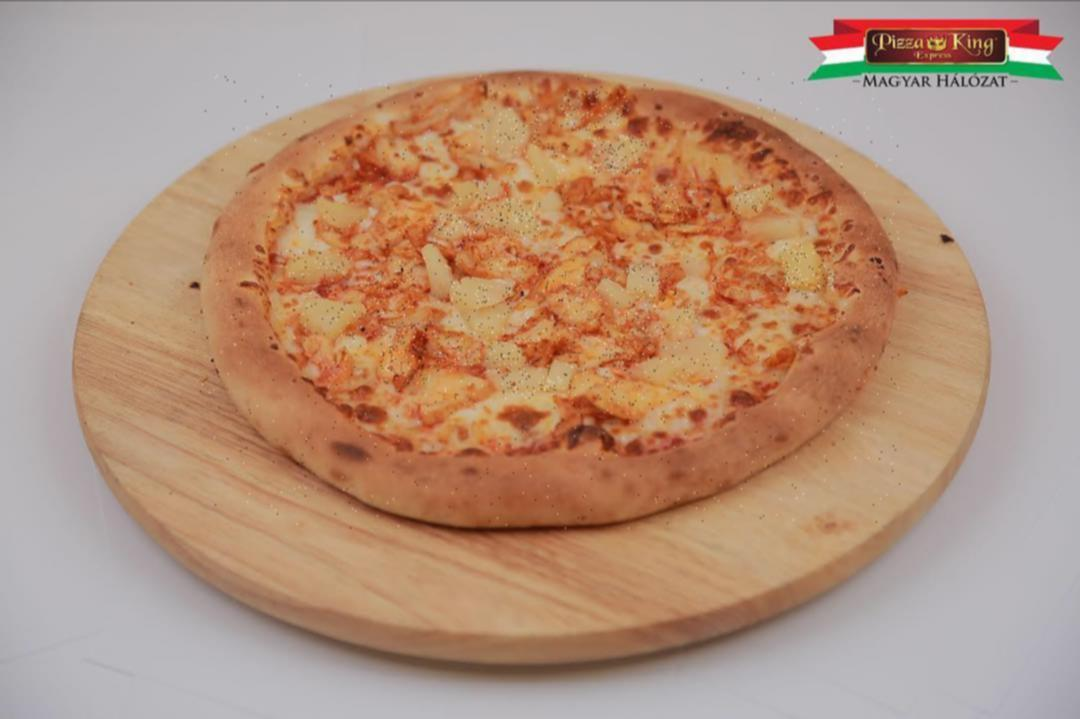Chicken: (572, 368, 692, 422), (541, 251, 609, 344), (600, 310, 668, 367), (567, 179, 621, 248), (462, 241, 539, 287), (364, 255, 416, 317), (382, 323, 433, 384), (520, 317, 581, 365), (561, 89, 628, 130), (421, 331, 487, 372), (364, 142, 426, 183), (648, 182, 702, 228)
Pineapple: (501, 357, 585, 398), (411, 236, 462, 303), (303, 290, 368, 342), (669, 333, 733, 382), (478, 198, 542, 245), (480, 107, 542, 152), (781, 245, 834, 294), (281, 246, 352, 282), (448, 280, 526, 309), (589, 135, 647, 174), (312, 196, 374, 231), (523, 142, 568, 190), (454, 302, 514, 338), (623, 264, 670, 307), (478, 336, 531, 374), (447, 180, 515, 209), (429, 215, 492, 246), (592, 273, 636, 314), (729, 184, 773, 223), (742, 214, 806, 240), (658, 304, 702, 339)
Pizza: (201, 72, 901, 528)
